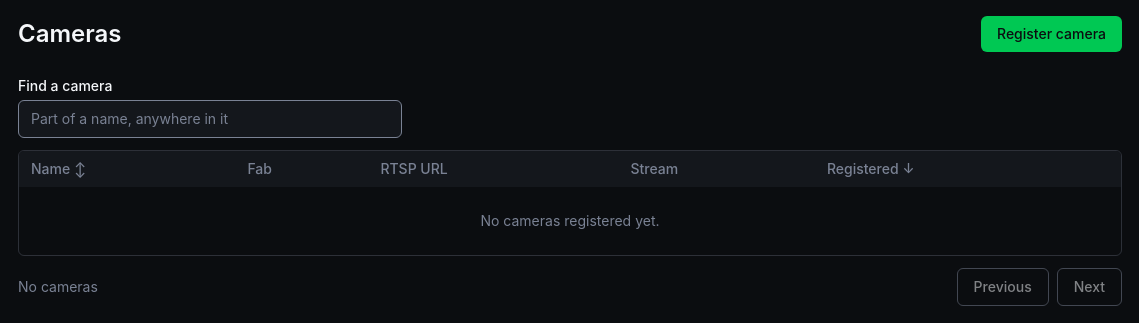
CamerasPage — finding a camera by name › Says a search matched nothing, rather than that there are no cameras
Expected: the text "No cameras registered yet." is shown, 19,187 -> 1121,255
Click the search field labelled "Find a camera": (210, 119) 18,100 -> 402,138
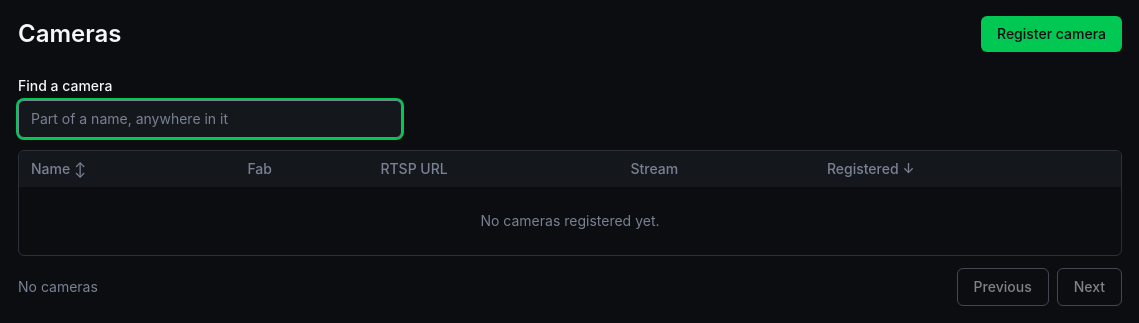
Type keys "nothingmatchesthis"
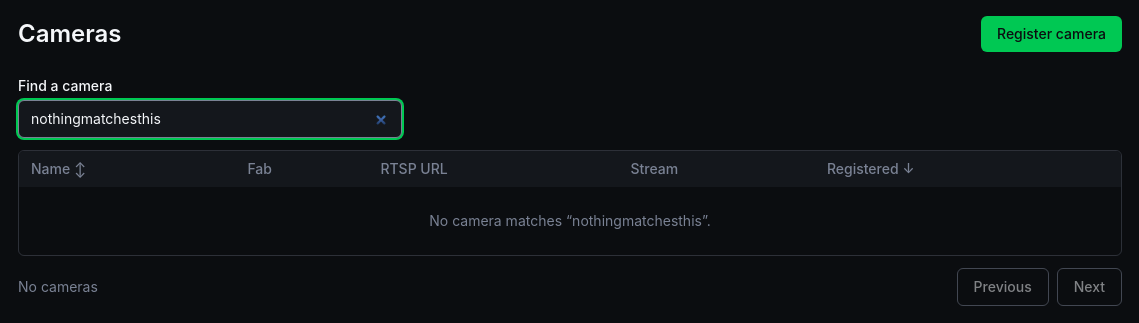
Now the text "No camera matches “nothingmatchesthis”." is shown, box 19,187 -> 1121,255
Now the text "No cameras registered yet" is gone
